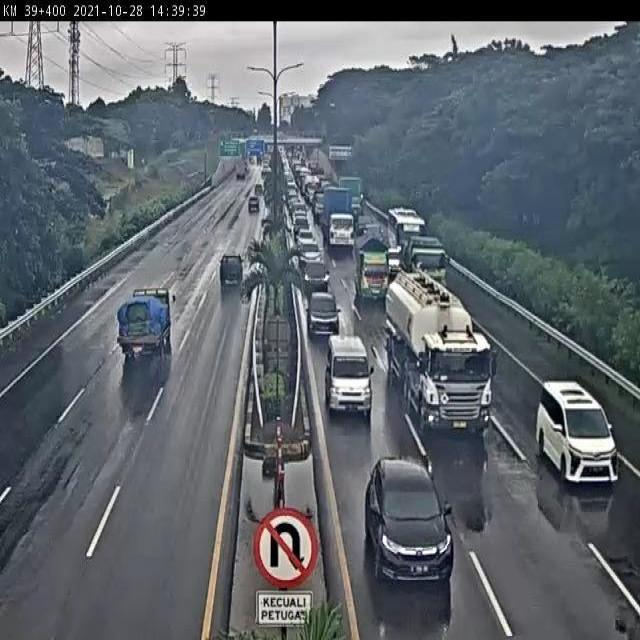big truck: (377, 260, 496, 437)
car: (374, 453, 449, 578), (531, 368, 605, 463), (212, 240, 259, 299), (318, 297, 352, 353), (304, 274, 330, 310), (301, 247, 325, 270), (240, 203, 259, 232), (245, 183, 265, 209), (299, 217, 315, 244)
small truck: (102, 274, 189, 402), (343, 223, 371, 272)
